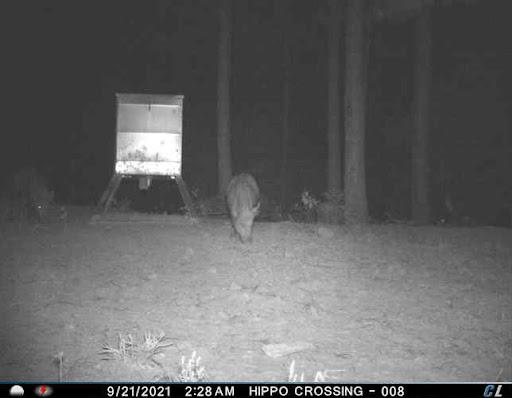Hog: (216, 166, 271, 249), (6, 165, 64, 232)
